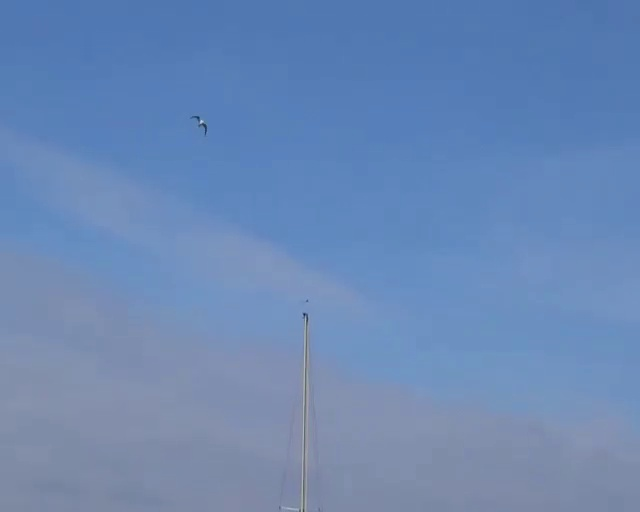BIRD: (190, 115, 208, 135)
